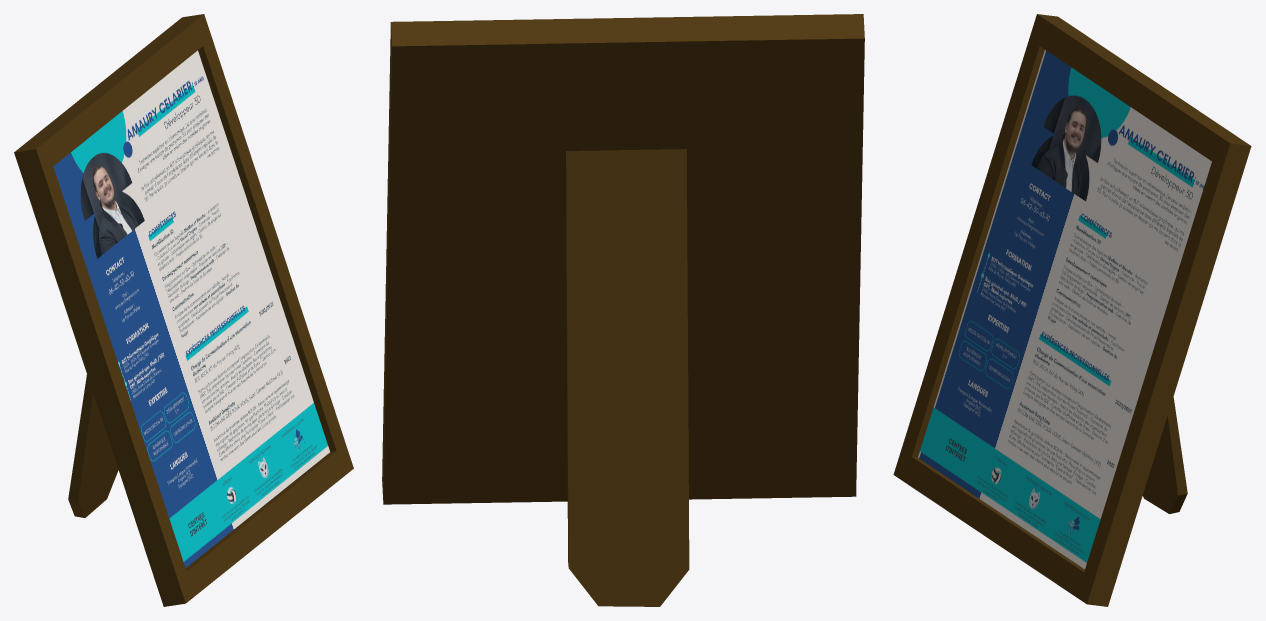
The picture shows the model from 3 angles, left to right: view 1: azimuth 30°, elevation 25°; view 2: azimuth 150°, elevation 25°; view 3: azimuth 270°, elevation 25°; orthographic projection. The views are drawn at different scales.
Visible parts, largest first — view 1: CV; view 2: CV; view 3: CV.
Part boxes in pixels (<box>): CV: <box>14,14,353,606</box>; CV: <box>382,14,864,606</box>; CV: <box>893,14,1251,606</box>.
Size of the model in its own units: 3.65 by 4.27 by 3.19.
Materials: 2 (1 with a texture image).
